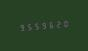five: (24, 21, 30, 32), (31, 21, 37, 31)
nine: (17, 22, 23, 32), (38, 20, 44, 30)
six: (45, 19, 51, 30)
two: (52, 19, 58, 29)
zero: (59, 18, 65, 29)
